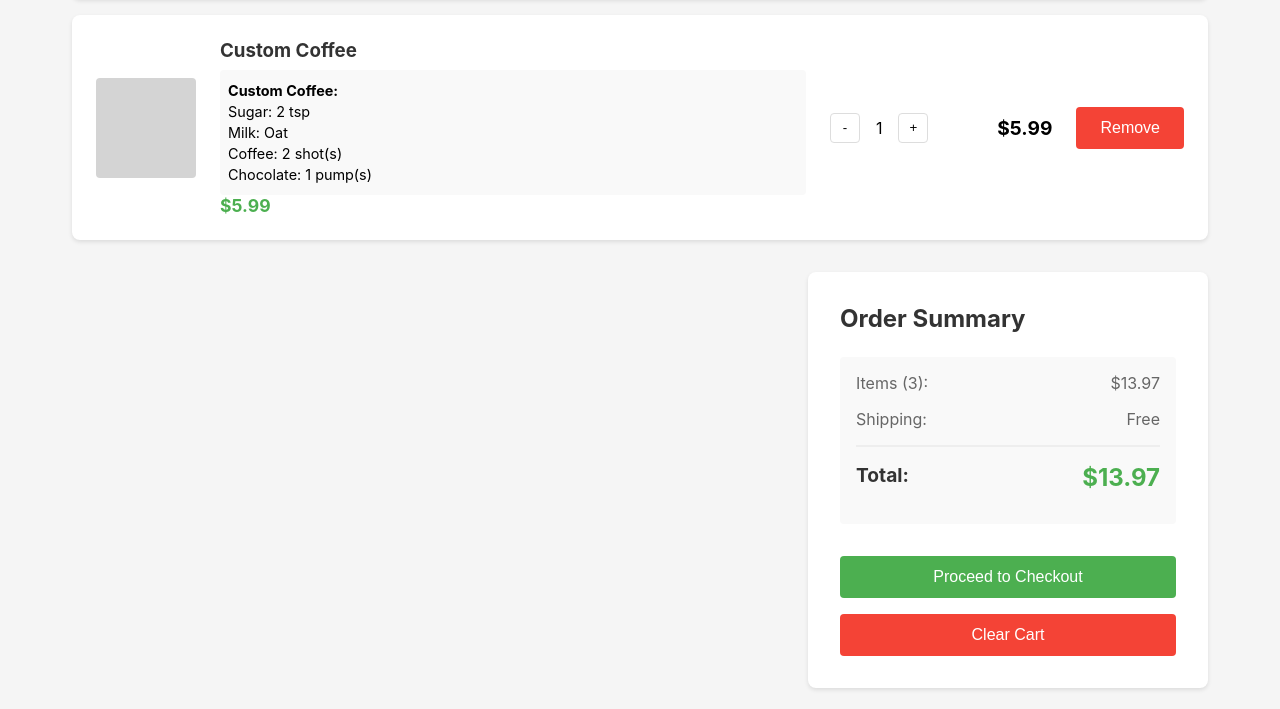
Test: Cart Page › shows checkout summary when proceed to checkout is clicked
(page scrolled)
Click the button "Proceed to Checkout" at point(1008, 577), box [840,556,1176,598]
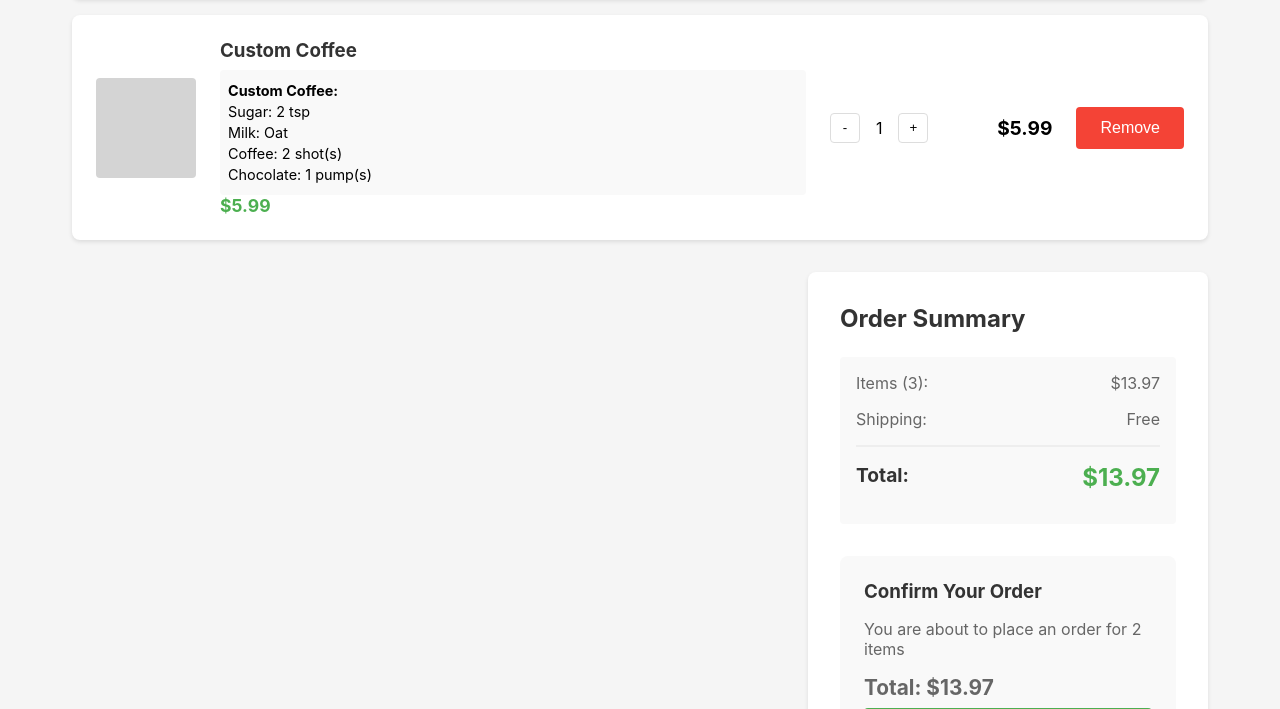
expect the heading "Confirm Your Order" is shown: met, box [864,580,1042,603]
